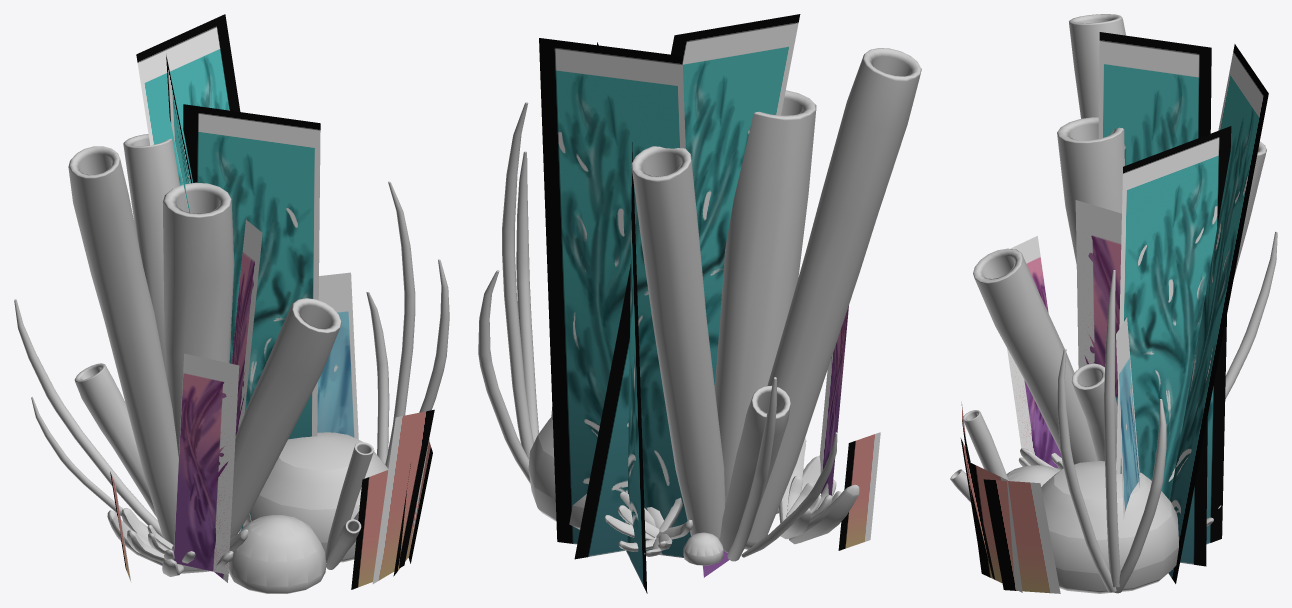
The model's file is Coral14.fbx.
The picture shows the model from 3 angles, left to right: view 1: azimuth 30°, elevation 25°; view 2: azimuth 150°, elevation 25°; view 3: azimuth 270°, elevation 25°; orthographic projection. The views are drawn at different scales.
Parts seen in each view (by area): view 1: polySurface267, polySurface223; view 2: polySurface267, polySurface223; view 3: polySurface223, polySurface267.
Part boxes in pixels (x1,y1,x2,y2): polySurface267: (14, 134, 449, 593); polySurface223: (110, 14, 434, 589); polySurface267: (478, 48, 921, 565); polySurface223: (539, 14, 880, 593); polySurface223: (960, 32, 1268, 593); polySurface267: (950, 14, 1277, 593).
Size of the model in its own units: 156 by 205 by 122.
